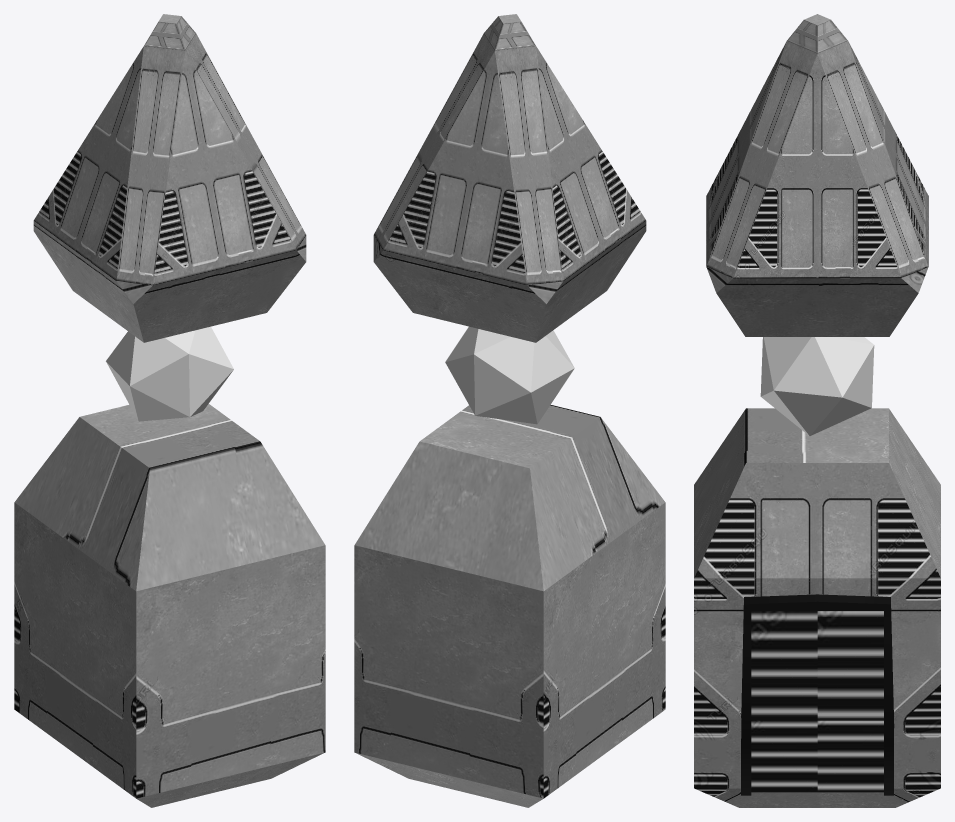
File: tower.fbx
3 views of the same model, side by side, from view 1: azimuth 30°, elevation 25°; view 2: azimuth 150°, elevation 25°; view 3: azimuth 270°, elevation 25° (orthographic).
Visible parts, largest first — view 1: tower_Base, tower_Top, Icosphere; view 2: tower_Base, tower_Top, Icosphere; view 3: tower_Base, tower_Top, Icosphere.
Boxes of the visible parts, <box> form: tower_Base: <box>14,404,325,807</box>; tower_Top: <box>33,14,306,342</box>; Icosphere: <box>106,326,233,421</box>; tower_Base: <box>354,405,665,807</box>; tower_Top: <box>373,14,646,342</box>; Icosphere: <box>445,326,574,424</box>; tower_Base: <box>694,408,940,807</box>; tower_Top: <box>706,14,928,336</box>; Icosphere: <box>760,337,874,435</box>.
Size of the model in its own units: 372 by 1259 by 361.
